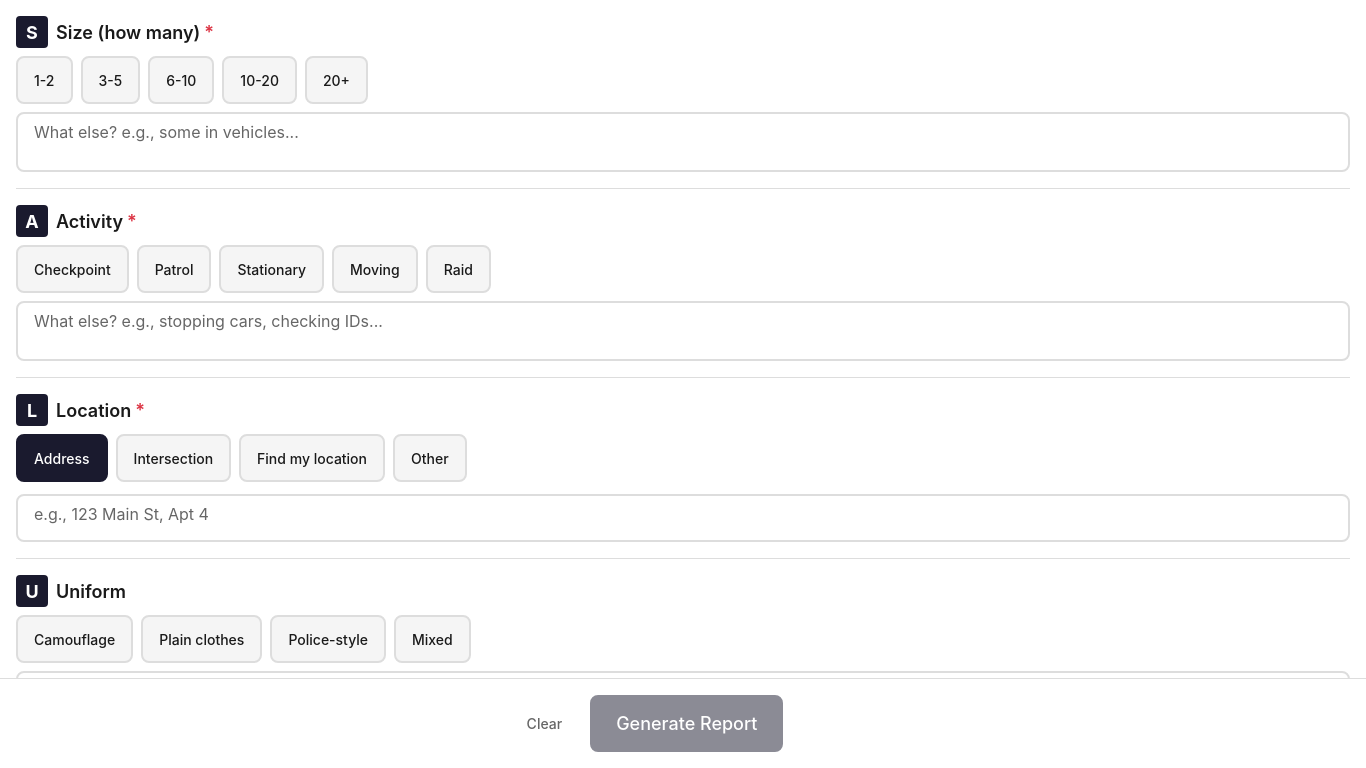
Test: SaluteForm › Actions › validation error lists missing field names
Note: Click generate without filling any fields
Click the button "Generate Report": (687,724) [590,695,783,752]
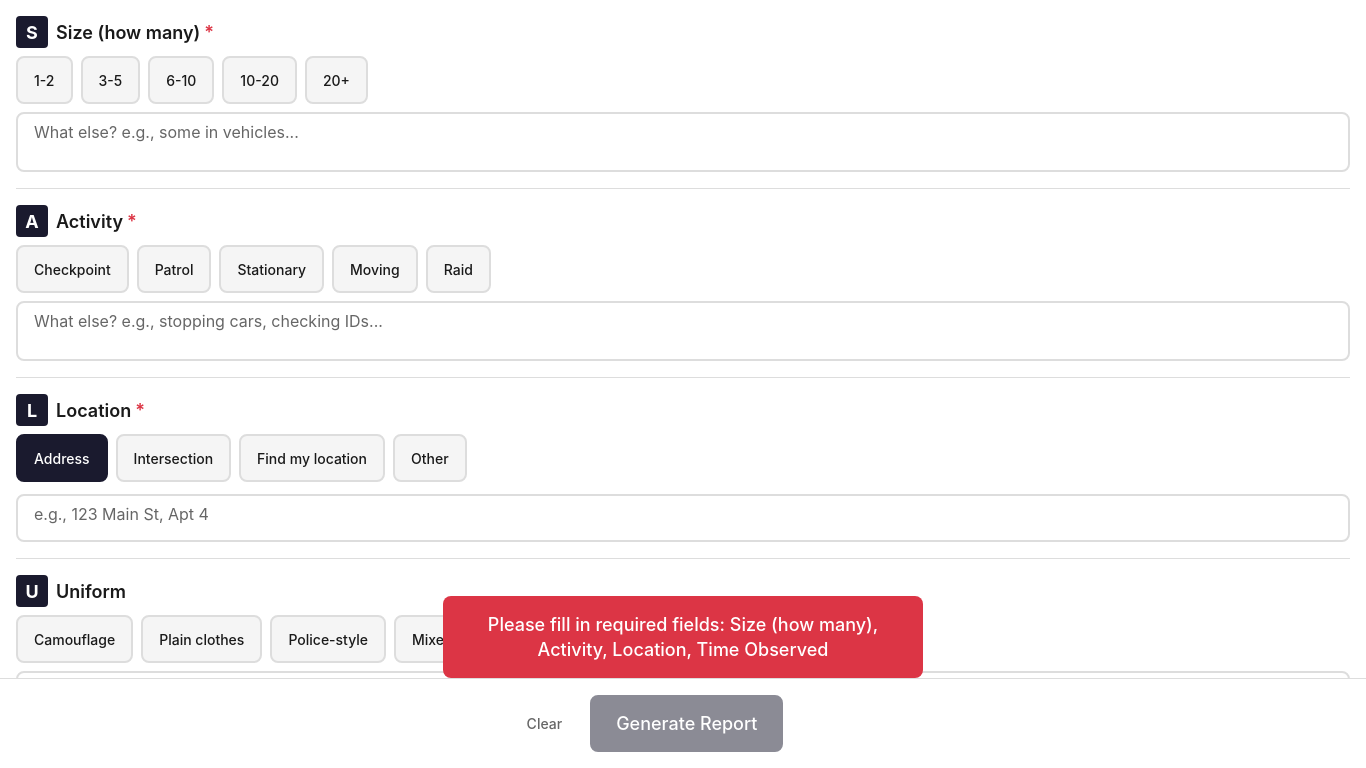
Result: the message is shown at [443,596,923,678]
